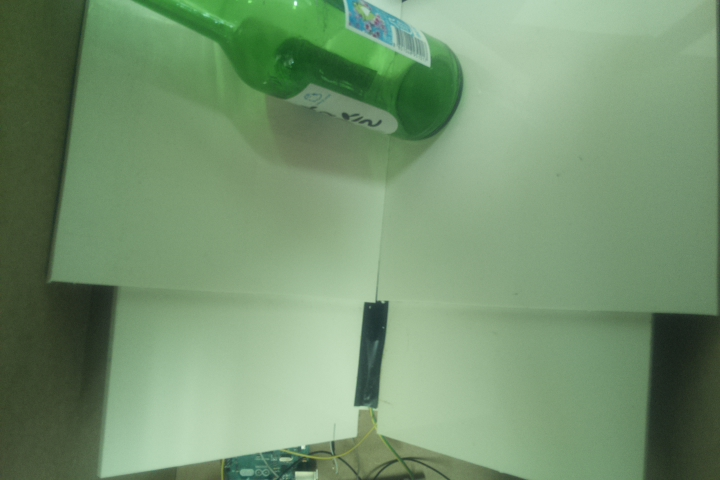soju: (123, 1, 467, 143)
